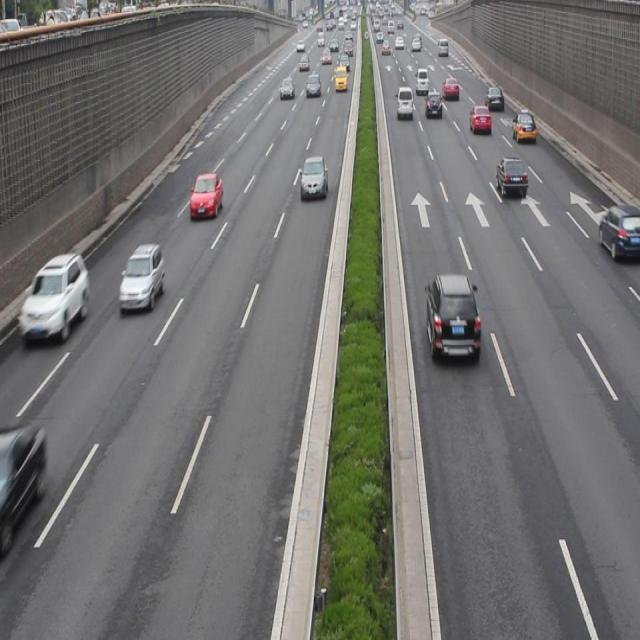car: (19, 251, 89, 343), (1, 423, 46, 531), (426, 273, 480, 361), (118, 242, 164, 313), (596, 201, 640, 261), (189, 171, 224, 221), (495, 156, 527, 200), (300, 156, 327, 200), (512, 111, 537, 145), (468, 103, 492, 136)
